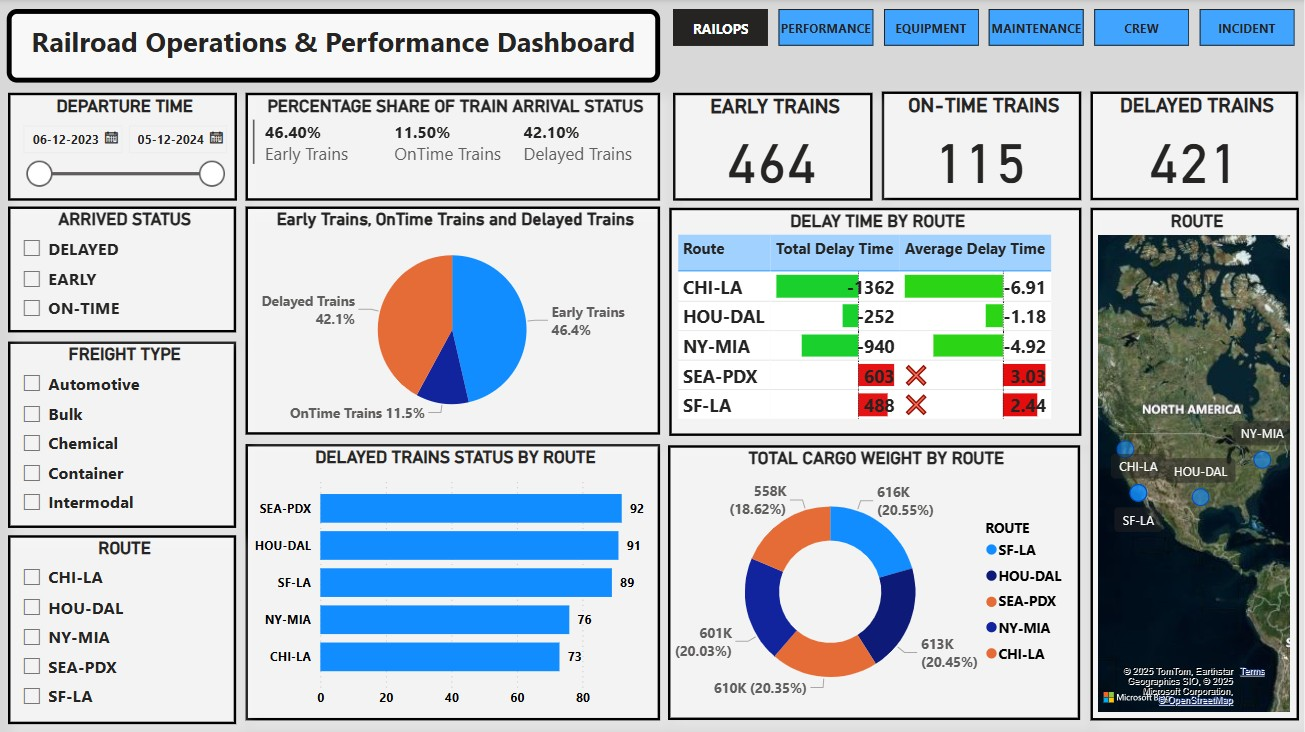

The dashboard page shown, as its layout file describes it:
{"tool":"powerbi","page":{"name":"RAILOPS","canvas":[1280,720],"ordinal":0},"visuals":[{"type":"textbox","box":[8.6,9.8,639.5,72.1],"z":0},{"type":"slicer","title":"FREIGHT TYPE","fields":{"Values":["Train_Operations.Freight_Type"]},"box":[9.9,335.1,223.4,182.5],"z":1000},{"type":"slicer","title":"DEPARTURE TIME","fields":{"Values":["Train_Operations.Departure_Time"]},"box":[9.9,91.9,223.6,105.6],"z":2000},{"type":"slicer","title":"ARRIVED STATUS","fields":{"Values":["Train_Operations.ARRIVAL_STATUS"]},"box":[9.9,203.6,223.4,122.9],"z":3000},{"type":"card","title":"ON-TIME TRAINS","fields":{"Values":["Sum(Train_Operations.ARRIVAL_STATUS_NO)"]},"box":[863.9,90.6,194.9,106.8],"z":4000},{"type":"card","title":"DELAYED TRAINS","fields":{"Values":["Sum(Train_Operations.DELAYED_STATUS)"]},"box":[1068.7,90.6,203.6,106.8],"z":5000},{"type":"card","title":"EARLY TRAINS","fields":{"Values":["Sum(Train_Operations.EARLY)"]},"box":[660.4,91.9,194.9,105.5],"z":6000},{"type":"barChart","title":"DELAYED TRAINS STATUS BY ROUTE","fields":{"Category":["Train_Operations.Route"],"Y":["Sum(Train_Operations.DELAYED_STATUS)"]},"box":[242.1,435.7,405.9,270.6],"z":7000},{"type":"slicer","title":"ROUTE","fields":{"Values":["Train_Operations.Route"]},"box":[9.9,525.1,223.4,185],"z":8000},{"type":"multiRowCard","title":"PERCENTAGE SHARE OF TRAIN ARRIVAL STATUS","fields":{"Values":["Train_Operations.Early_Percentage","Train_Operations.OnTime_Percentage","Train_Operations.Delayed_Percentage"]},"box":[242.1,91.9,405.9,105.5],"z":9000},{"type":"pieChart","fields":{"Y":["Train_Operations.Early_Percentage","Train_Operations.OnTime_Percentage","Train_Operations.Delayed_Percentage"]},"box":[242.1,203.6,405.9,223.4],"z":10000},{"type":"tableEx","title":"DELAY TIME BY ROUTE","fields":{"Values":["Train_Operations.Route","Train_Operations.Total_Delay_Time_By_Route","Train_Operations.Average_Delay_By_Route"]},"box":[656.3,203.9,403,223.2],"z":11000},{"type":"donutChart","title":"TOTAL CARGO WEIGHT BY ROUTE","fields":{"Category":["Train_Operations.Route"],"Y":["Train_Operations.Total_Cargo_Weight_By_Route"]},"box":[656,436.4,402.9,269.1],"z":12000},{"type":"map","fields":{"Category":["Train_Operations.Route"]},"box":[1068.9,203.9,203.9,501.9],"z":13000},{"type":"pageNavigator","box":[660.4,10.2,612.4,36.4],"z":14000}]}

Visuals, with their boxes in screenshot pixels (x1, y1, x2, y2), scaled from the page's 1280x720 canvas onto the 1305x732 screenshot:
textbox: pyautogui.locateOnScreen(9, 10, 661, 83)
"FREIGHT TYPE" slicer: pyautogui.locateOnScreen(10, 341, 238, 526)
"DEPARTURE TIME" slicer: pyautogui.locateOnScreen(10, 93, 238, 201)
"ARRIVED STATUS" slicer: pyautogui.locateOnScreen(10, 207, 238, 332)
"ON-TIME TRAINS" card: pyautogui.locateOnScreen(881, 92, 1079, 201)
"DELAYED TRAINS" card: pyautogui.locateOnScreen(1090, 92, 1297, 201)
"EARLY TRAINS" card: pyautogui.locateOnScreen(673, 93, 872, 201)
"DELAYED TRAINS STATUS BY ROUTE" barChart: pyautogui.locateOnScreen(247, 443, 661, 718)
"ROUTE" slicer: pyautogui.locateOnScreen(10, 534, 238, 722)
"PERCENTAGE SHARE OF TRAIN ARRIVAL STATUS" multiRowCard: pyautogui.locateOnScreen(247, 93, 661, 201)
pieChart - Train_Operations.Early_Percentage x Train_Operations.OnTime_Percentage: pyautogui.locateOnScreen(247, 207, 661, 434)
"DELAY TIME BY ROUTE" tableEx: pyautogui.locateOnScreen(669, 207, 1080, 434)
"TOTAL CARGO WEIGHT BY ROUTE" donutChart: pyautogui.locateOnScreen(669, 444, 1080, 717)
map - Train_Operations.Route: pyautogui.locateOnScreen(1090, 207, 1298, 718)
pageNavigator: pyautogui.locateOnScreen(673, 10, 1298, 47)
